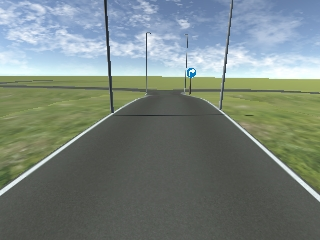right: (186, 67, 196, 77)
